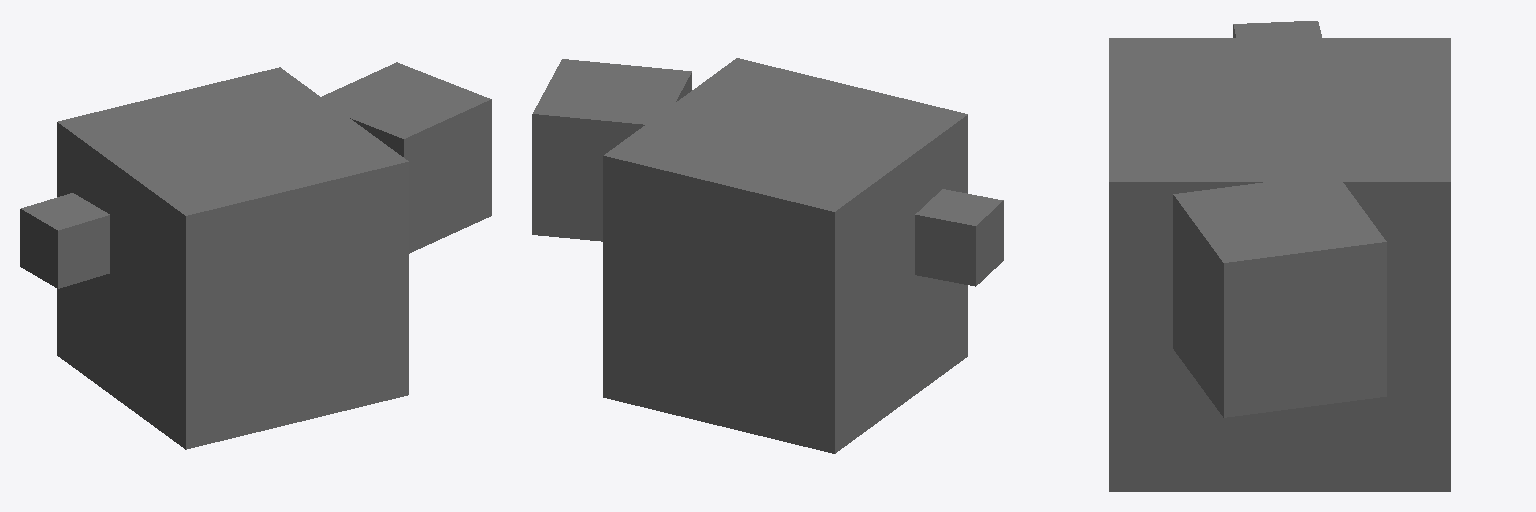
robot.urdf — joint_revolute:
<?xml version="1.0"?>
<robot name="joint_revolute">
  <material name="builder_color_1">
    <color rgba="0.5 0.5 0.5 1"/>
  </material>
  <link name="base_link">
    <inertial>
      <origin xyz="0 0 0"/>
      <mass value="2"/>
      <inertia ixx="0.013333333333333336" ixy="0" ixz="0" iyy="0.013333333333333336" iyz="0" izz="0.013333333333333336"/>
    </inertial>
    <visual>
      <geometry><box size="0.2 0.2 0.2"/></geometry>
      <material name="builder_color_1"/>
    </visual>
    <collision>
      <geometry><box size="0.2 0.2 0.2"/></geometry>
    </collision>
  </link>
  <link name="child_link">
    <inertial>
      <origin xyz="0 0 0"/>
      <mass value="0.5"/>
      <inertia ixx="0.0008333333333333335" ixy="0" ixz="0" iyy="0.0008333333333333335" iyz="0" izz="0.0008333333333333335"/>
    </inertial>
    <visual>
      <geometry><box size="0.1 0.1 0.1"/></geometry>
      <material name="builder_color_1"/>
    </visual>
    <collision>
      <geometry><box size="0.1 0.1 0.1"/></geometry>
    </collision>
  </link>
  <link name="follower_link">
    <inertial>
      <origin xyz="0 0 0"/>
      <mass value="0.2"/>
      <inertia ixx="8.333333333333336e-05" ixy="0" ixz="0" iyy="8.333333333333336e-05" iyz="0" izz="8.333333333333336e-05"/>
    </inertial>
    <visual>
      <geometry><box size="0.05 0.05 0.05"/></geometry>
      <material name="builder_color_1"/>
    </visual>
    <collision>
      <geometry><box size="0.05 0.05 0.05"/></geometry>
    </collision>
  </link>
  <joint name="child_joint" type="revolute">
    <parent link="base_link"/>
    <child link="child_link"/>
    <origin xyz="0.15 0 0.05" rpy="0 0 0.3"/>
    <axis xyz="0 0 1"/>
    <limit lower="-1.5" upper="1.5" effort="3" velocity="2"/>
    <dynamics damping="0.01" friction="0.02"/>
  </joint>
  <joint name="follower_joint" type="revolute">
    <parent link="base_link"/>
    <child link="follower_link"/>
    <origin xyz="-0.15 0 0.05" rpy="0 0 0"/>
    <axis xyz="0 0 1"/>
    <limit lower="-1.5" upper="1.5" effort="3" velocity="2"/>
    <mimic joint="child_joint" multiplier="-1" offset="0.1"/>
  </joint>
</robot>

--- What the picture shows (computed from the rendered views, not written in the file) ---
The picture shows the robot from 3 angles, left to right: view 1: azimuth 30°, elevation 25°; view 2: azimuth 150°, elevation 25°; view 3: azimuth 270°, elevation 25°; orthographic projection.
Model joint_revolute with 3 links and 2 joints (2 revolute), rooted at base_link, posed every joint at zero.
Links seen in each view (by area): view 1: base_link, child_link, follower_link; view 2: base_link, child_link, follower_link; view 3: base_link, child_link, follower_link.
Boxes of the visible links, left/top/right/bottom form: base_link: left=57, top=67, right=408, bottom=449; child_link: left=310, top=62, right=491, bottom=253; follower_link: left=20, top=193, right=109, bottom=288; base_link: left=603, top=58, right=967, bottom=453; child_link: left=532, top=59, right=691, bottom=241; follower_link: left=915, top=189, right=1003, bottom=286; base_link: left=1109, top=38, right=1450, bottom=491; child_link: left=1173, top=174, right=1386, bottom=417; follower_link: left=1233, top=21, right=1321, bottom=37.
Bounding box of the posed robot: 0.3899 × 0.2 × 0.2 m (x, y, z).
Geometry: primitives only (box / cylinder / sphere), no mesh files.
